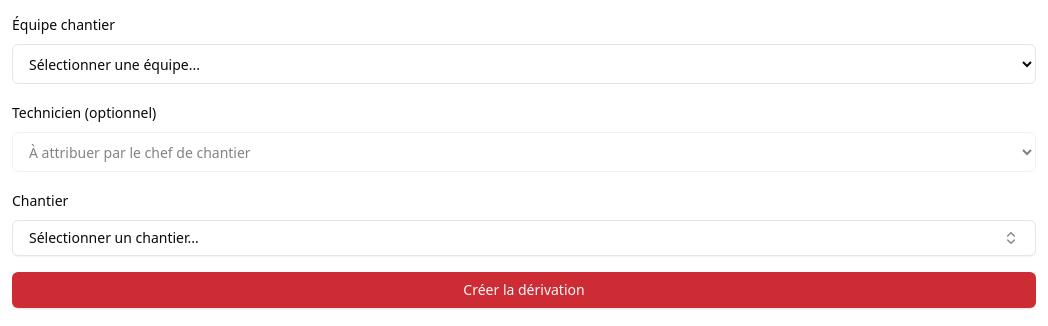
Test: CreateDerivationForm › only lists the members of the selected team as technicians
Expected: the dropdown labelled "Technicien (optionnel)" is disabled, [12,132,1036,172]
Select "Équipe Nord" in the dropdown labelled "Équipe chantier": (524, 64) [12,44,1036,84]
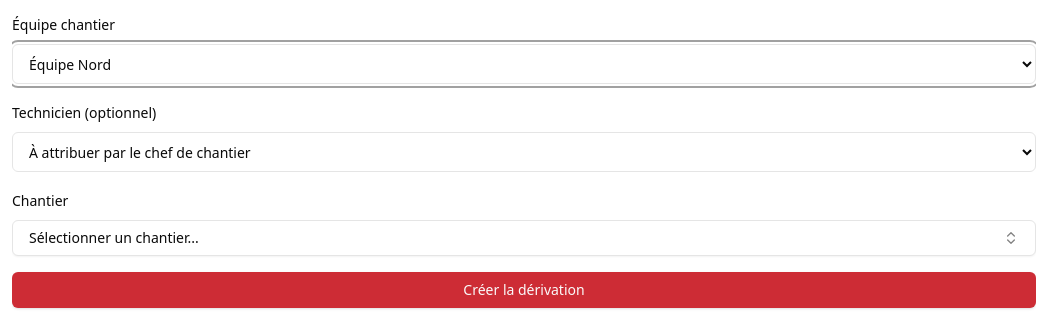
Now the dropdown labelled "Technicien (optionnel)" is enabled, box [12,132,1036,172]
